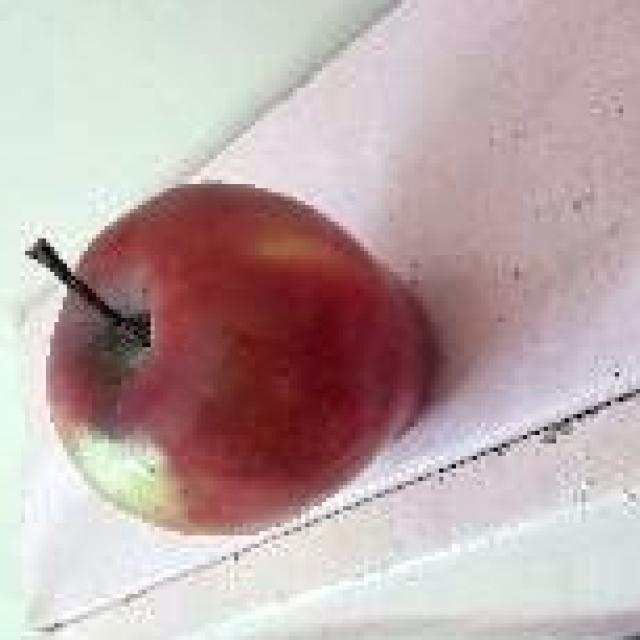Good_Apple 10-21 days: (38, 184, 435, 532)
